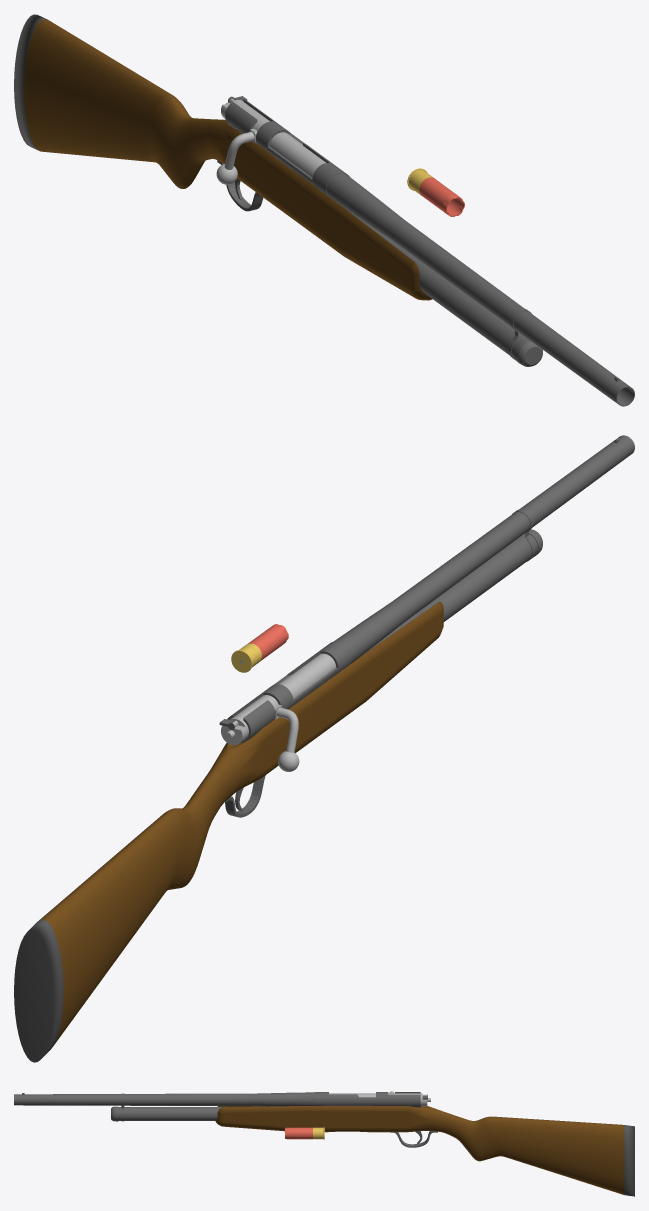
The model's file is BoltActionShotgunProps.fbx.
3 renders of one model, top to bottom at view 1: azimuth 30°, elevation 25°; view 2: azimuth 150°, elevation 25°; view 3: azimuth 270°, elevation 25°, orthographic. The views are drawn at different scales.
Visible parts, largest first — view 1: Stock, Fired Shell; view 2: Stock, Fired Shell; view 3: Stock, Fired Shell.
Boxes of the visible parts, box(x1,y1,x2,y2) form: Stock: box(14, 14, 634, 406); Fired Shell: box(407, 168, 464, 216); Stock: box(14, 435, 634, 1062); Fired Shell: box(231, 624, 288, 672); Stock: box(14, 1091, 634, 1196); Fired Shell: box(285, 1127, 324, 1139).
Bounding box in the file's own units: 14.96 × 111 × 20.38.
